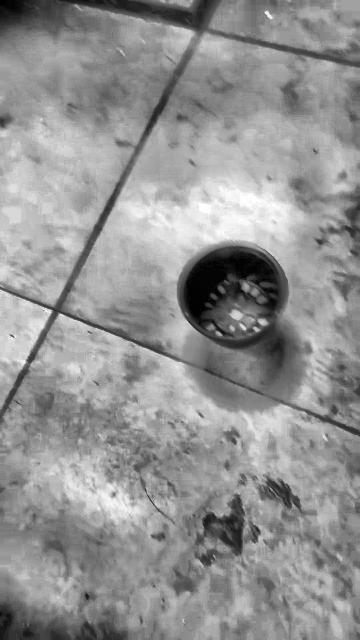pot: (177, 244, 288, 348)
